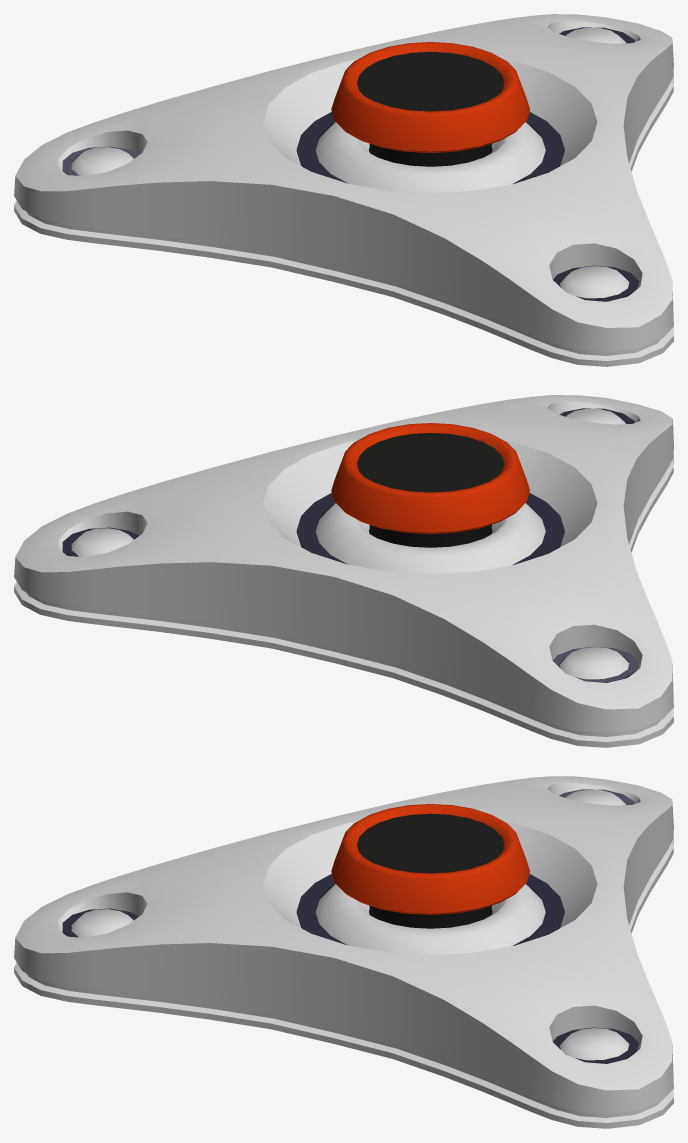
The model's file is PushButton2.fbx.
3 views of the same model, one above another, from view 1: azimuth 30°, elevation 25°; view 2: azimuth 150°, elevation 25°; view 3: azimuth 270°, elevation 25° (orthographic).
Visible parts, largest first — view 1: ButtonPlate, PushButton, ButtonEmission; view 2: ButtonPlate, PushButton, ButtonEmission; view 3: ButtonPlate, PushButton, ButtonEmission.
Part boxes in pixels (<box>): ButtonPlate: <box>14,14,673,366</box>; PushButton: <box>331,42,529,166</box>; ButtonEmission: <box>62,27,638,301</box>; ButtonPlate: <box>14,395,673,747</box>; PushButton: <box>331,423,529,547</box>; ButtonEmission: <box>62,408,638,682</box>; ButtonPlate: <box>14,776,673,1128</box>; PushButton: <box>331,804,529,928</box>; ButtonEmission: <box>62,789,638,1063</box>.
Size of the model in its own units: 13.3 by 2.64 by 11.86.
